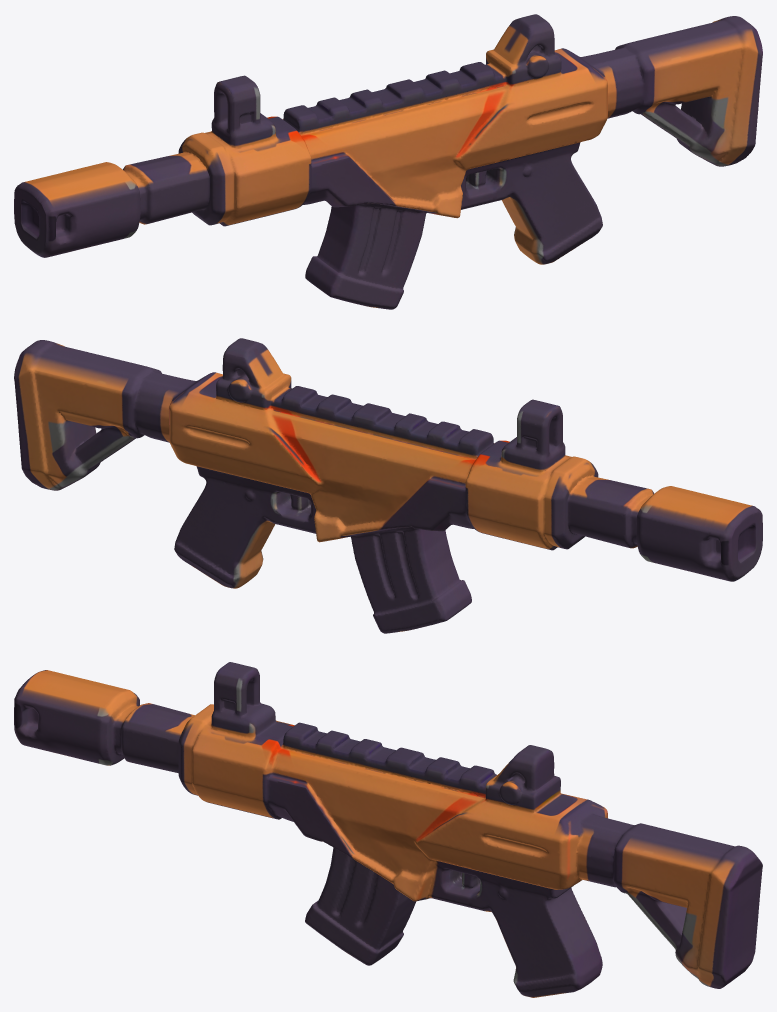
File: Gun.fbx
The picture shows the model from 3 angles, top to bottom: view 1: azimuth 30°, elevation 25°; view 2: azimuth 150°, elevation 25°; view 3: azimuth 330°, elevation 25°; orthographic projection.
Visible parts, largest first — view 1: tripo_node_62569509; view 2: tripo_node_62569509; view 3: tripo_node_62569509.
Part boxes in pixels (x1,y1,x2,y2): tripo_node_62569509: [14, 14, 762, 309]; tripo_node_62569509: [14, 338, 762, 633]; tripo_node_62569509: [14, 662, 762, 997].
Size of the model in its own units: 1 by 0.3375 by 0.1118.
